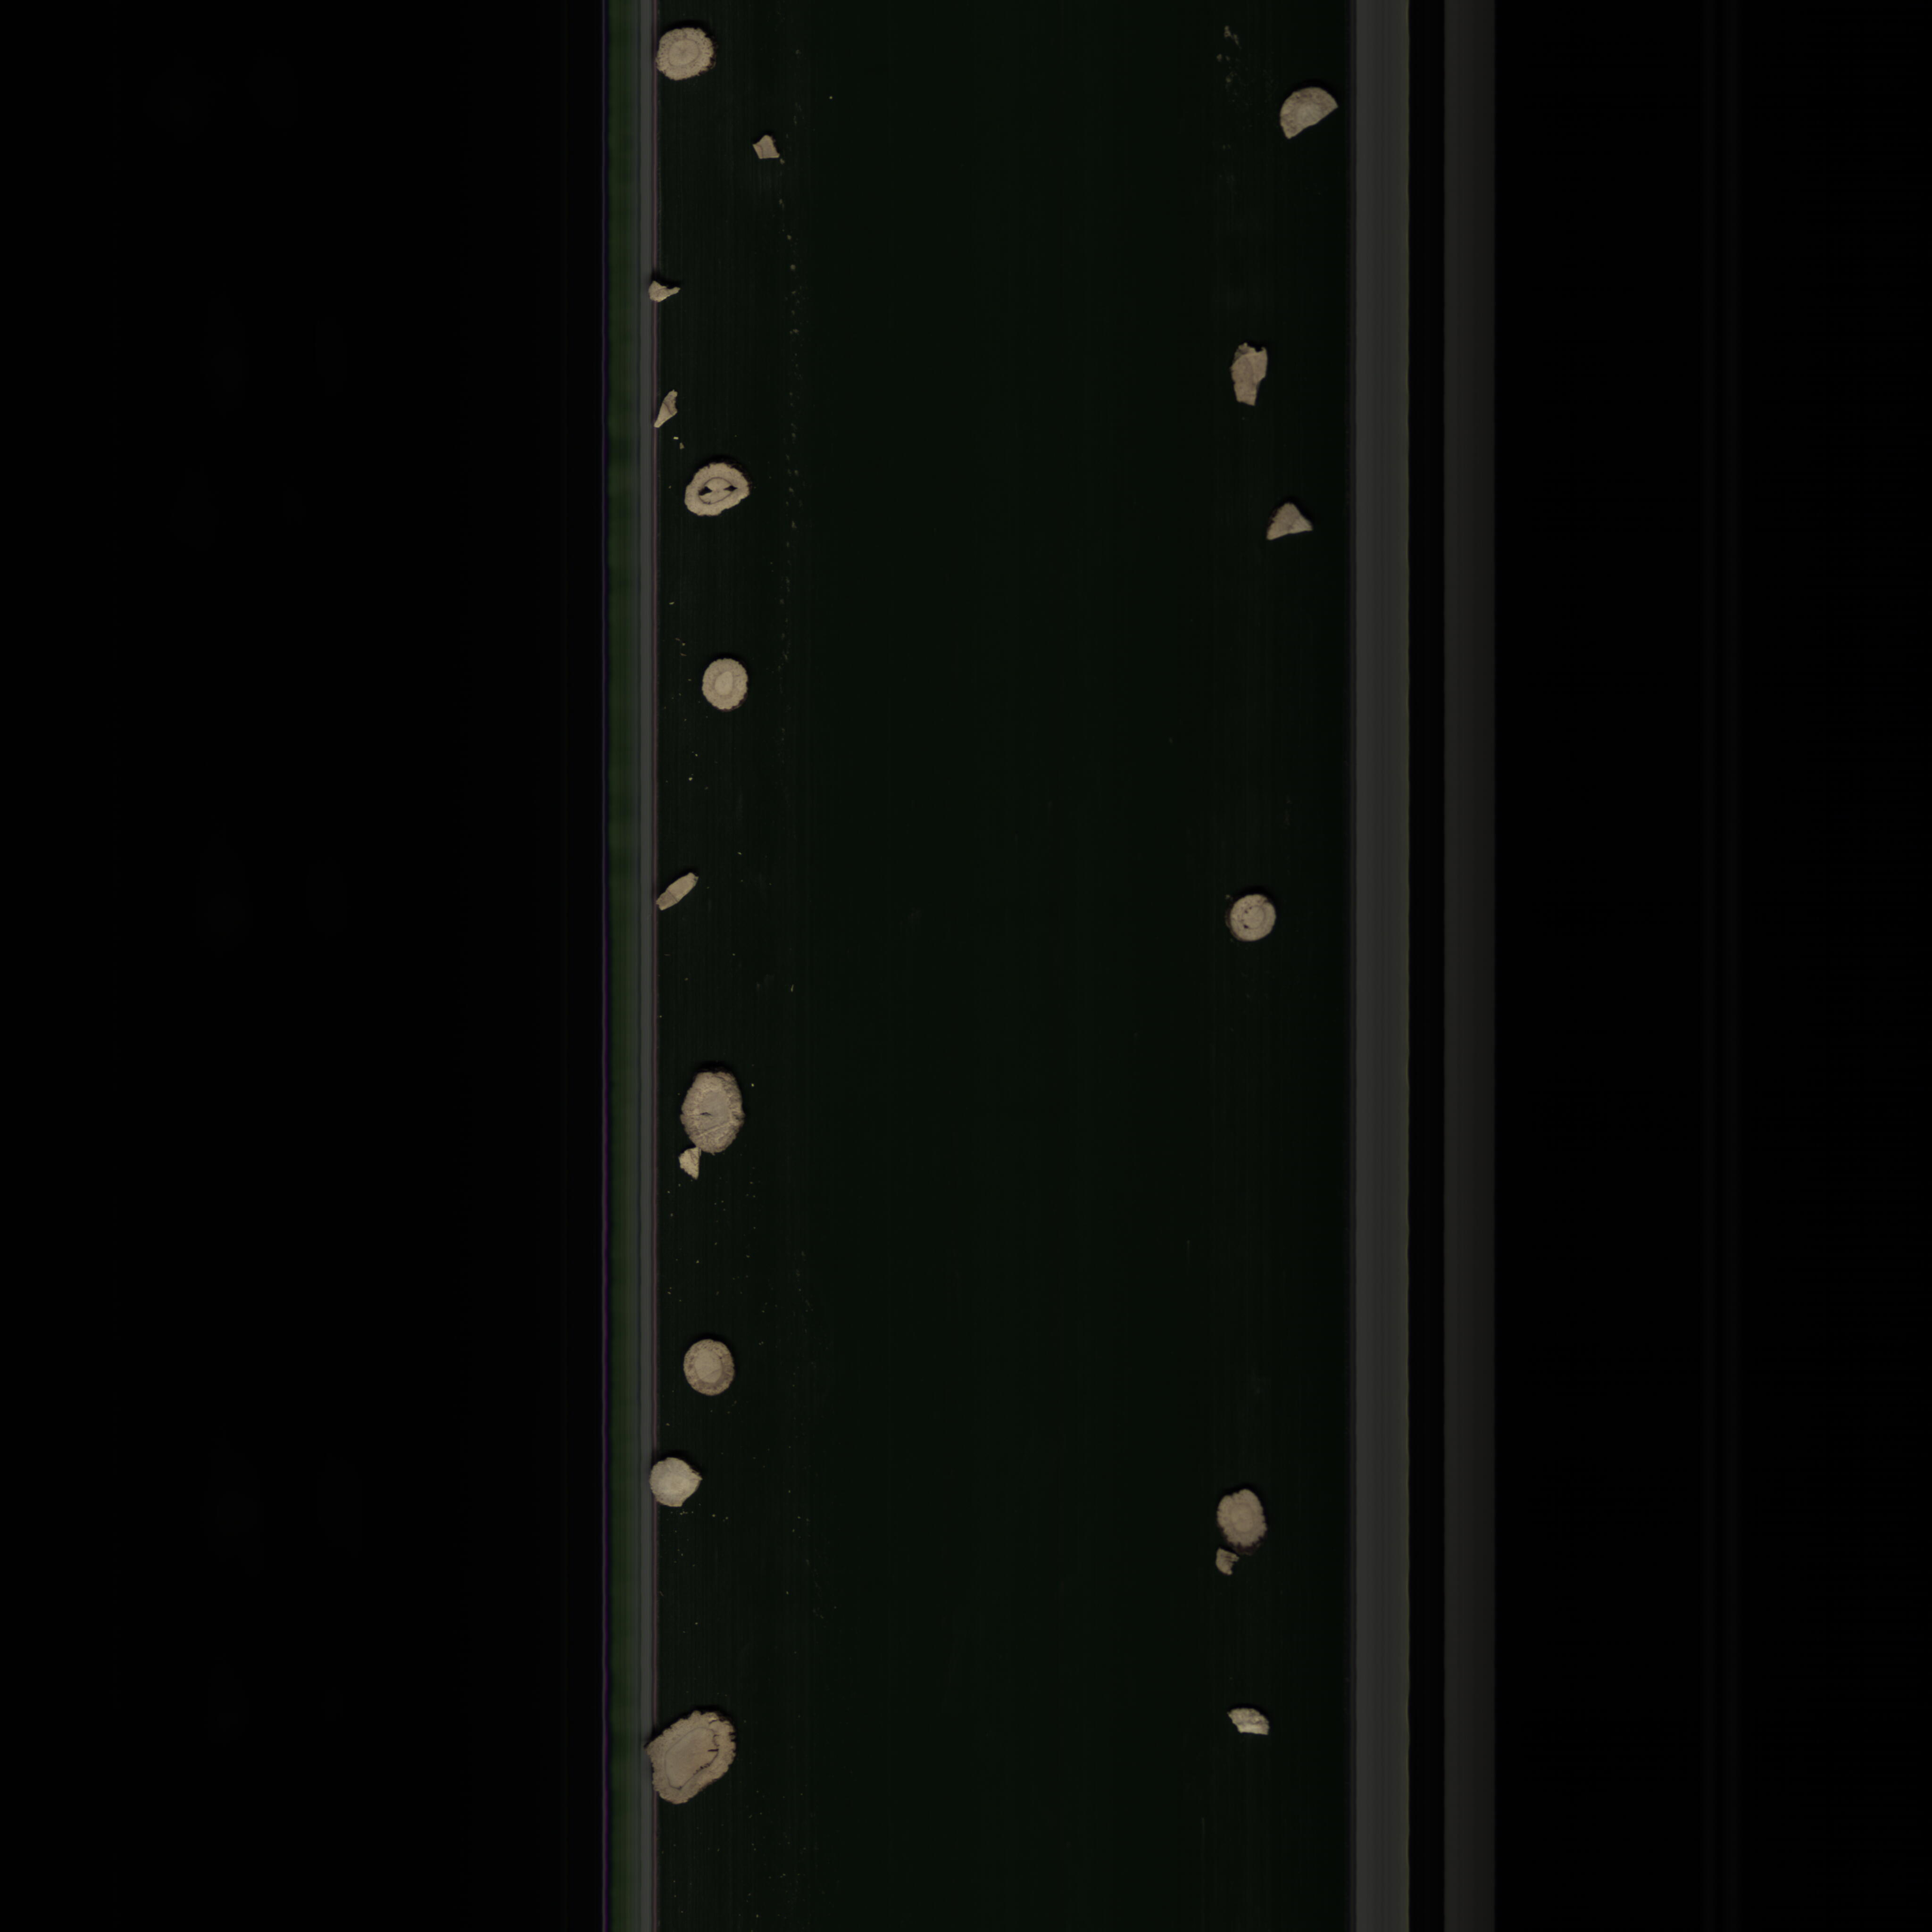debris: (1276, 83, 1339, 149), (1228, 336, 1269, 414), (1267, 497, 1320, 550), (1217, 1706, 1281, 1748), (660, 872, 706, 920), (649, 386, 685, 430), (672, 1145, 706, 1184), (745, 134, 784, 166), (646, 276, 685, 304), (1219, 1550, 1242, 1592)
distortion: (642, 1707, 750, 1810)
hole: (683, 458, 759, 522)
